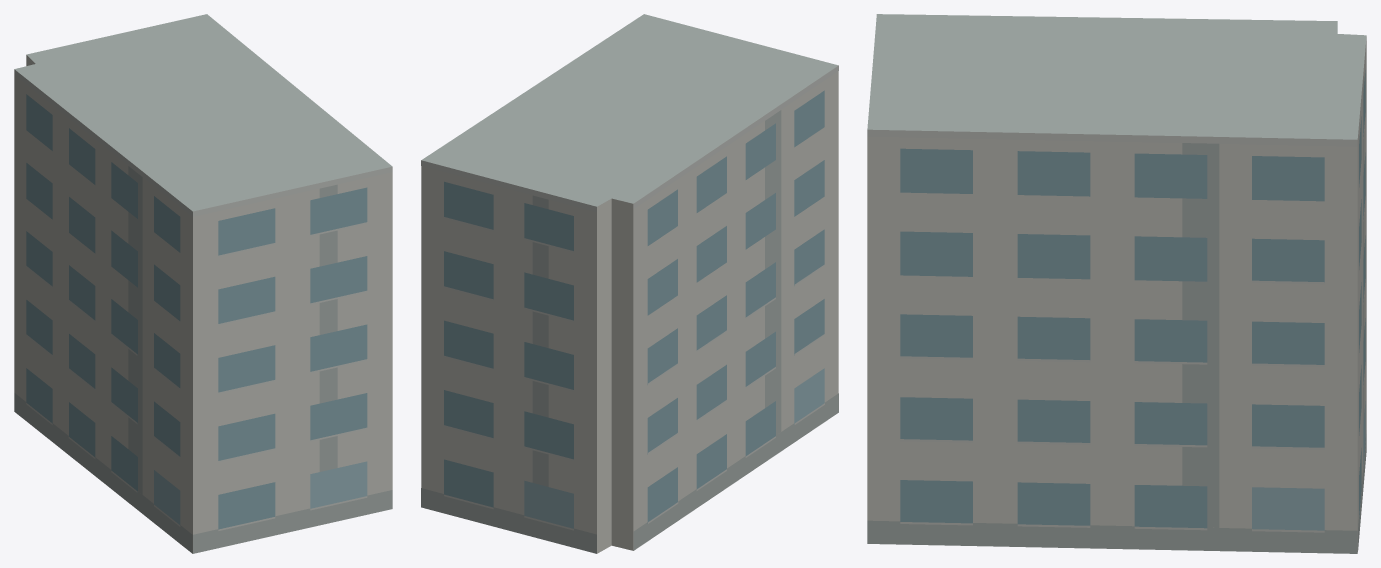
Rendered from survey-upis-32764964.glb.
3 renders of one model, left to right at view 1: azimuth 30°, elevation 25°; view 2: azimuth 150°, elevation 25°; view 3: azimuth 270°, elevation 25°, orthographic. The views are drawn at different scales.
Visible parts, largest first — view 1: survey-upis-32764964.tmp; view 2: survey-upis-32764964.tmp; view 3: survey-upis-32764964.tmp.
Part boxes in pixels (box(x1,y1,x2,y2)): survey-upis-32764964.tmp: box(14, 14, 392, 553); survey-upis-32764964.tmp: box(421, 14, 838, 553); survey-upis-32764964.tmp: box(867, 14, 1366, 553).
Size of the model in its own units: 9.65 by 14.8 by 16.18.
